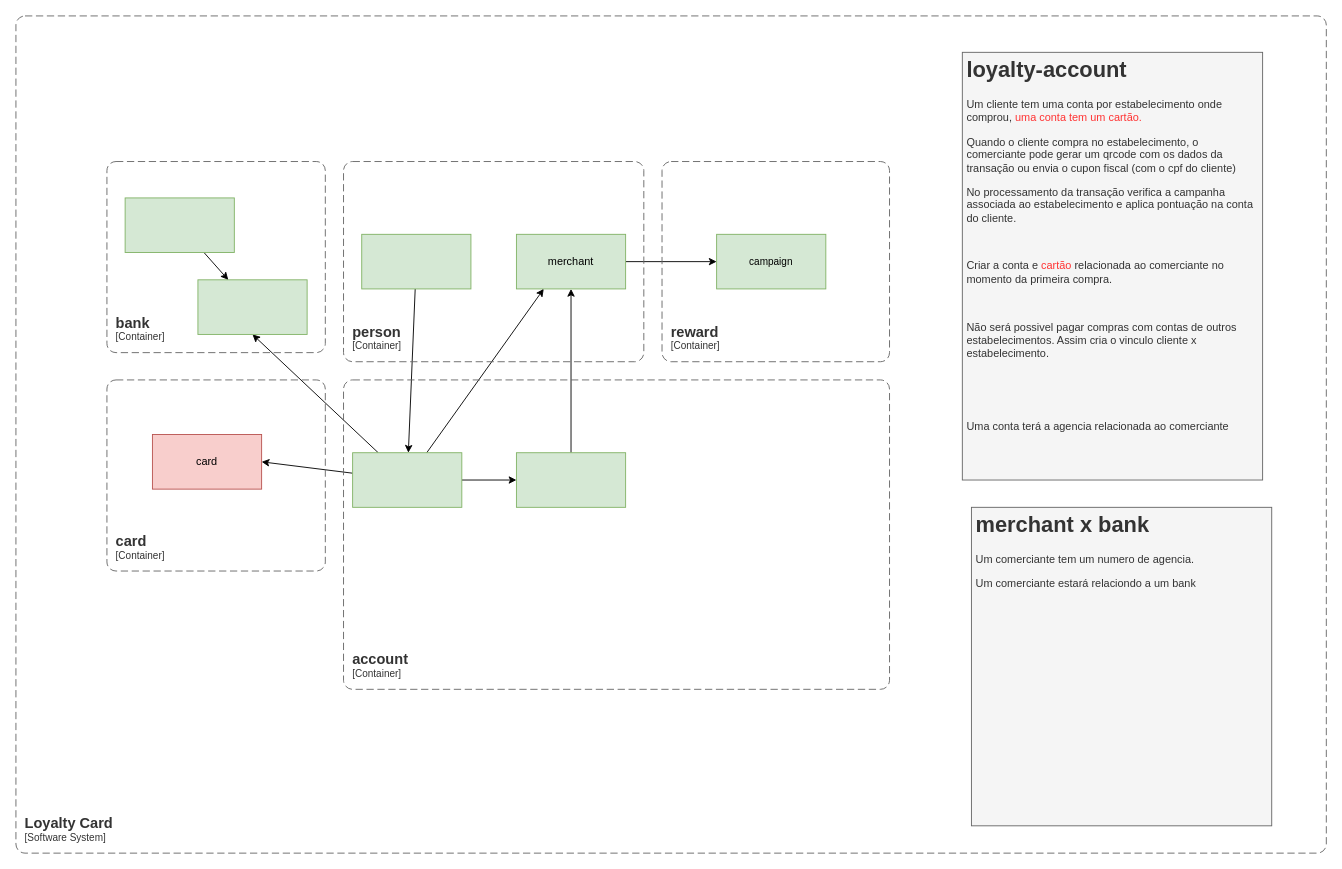
Image size: 1342x869. Some labels were removed from this diagram. The shapes that lost their labels are listed below. From the top down, each one's centre as x and y in pixels, then its label:
At point (179, 225): "branch".
At point (416, 261): "customer".
At point (252, 306): "bank".
At point (407, 479): "loyalty-account".
At point (571, 479): "transaction".
